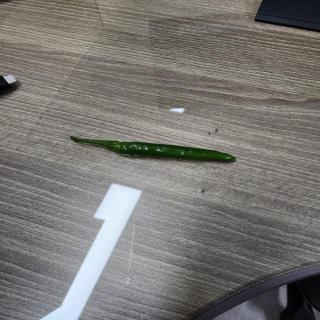Cabai Hijau: (59, 125, 248, 182)
